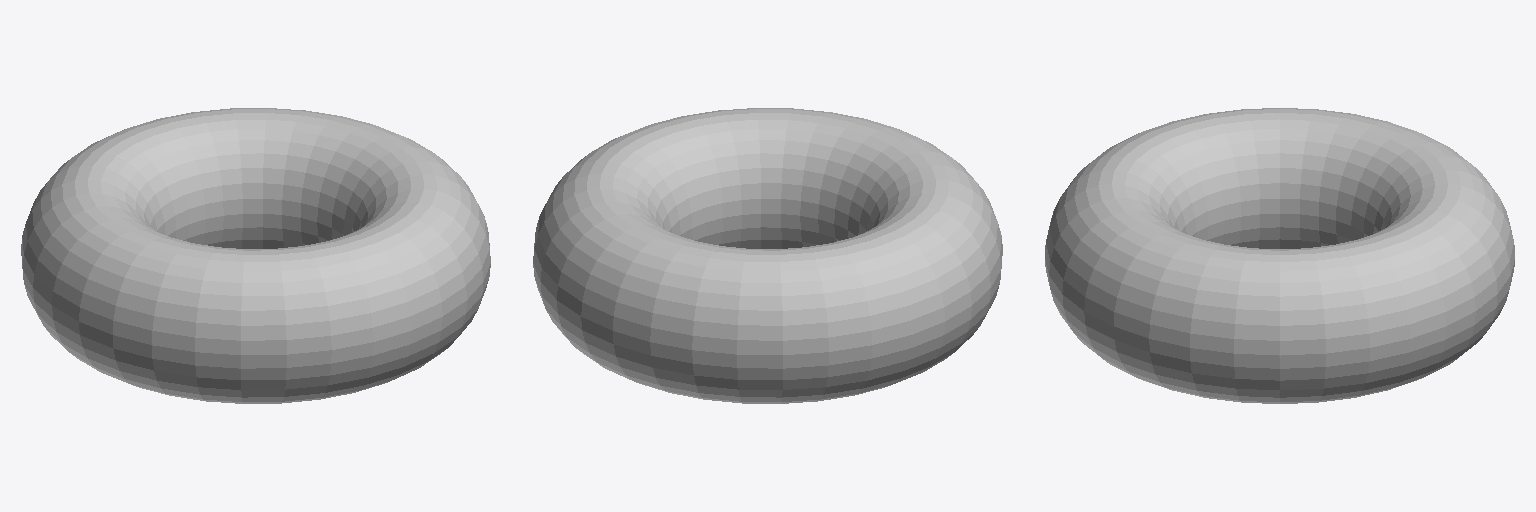
Rendered from torus32_smoothed_100.obj.
The picture shows the model from 3 angles: view 1: azimuth 30°, elevation 25°; view 2: azimuth 150°, elevation 25°; view 3: azimuth 270°, elevation 25°; orthographic projection.
Bounding box in the file's own units: 9.06 × 3.06 × 9.06.